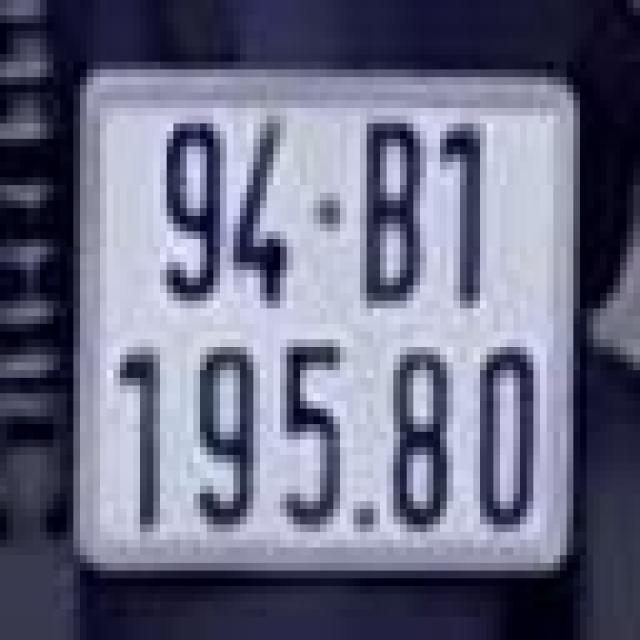0: (476, 335, 536, 536)
1: (110, 335, 170, 536), (437, 116, 490, 316)
4: (233, 112, 300, 320)
5: (273, 332, 347, 532)
8: (390, 343, 450, 536)
9: (193, 336, 260, 528), (164, 120, 224, 312)
B: (357, 115, 423, 308)
